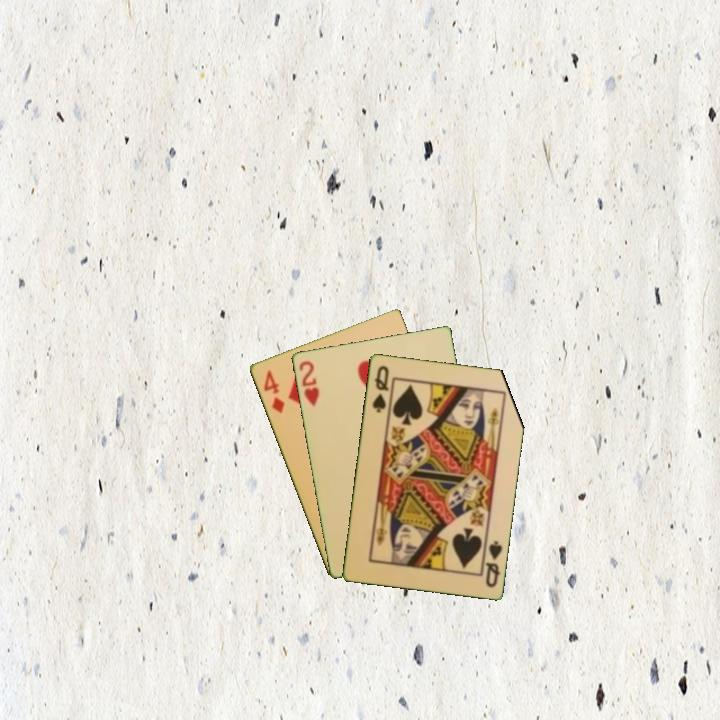2h: (295, 357, 322, 409)
4d: (260, 366, 287, 416)
Qs: (482, 537, 505, 590), (369, 362, 391, 415)
